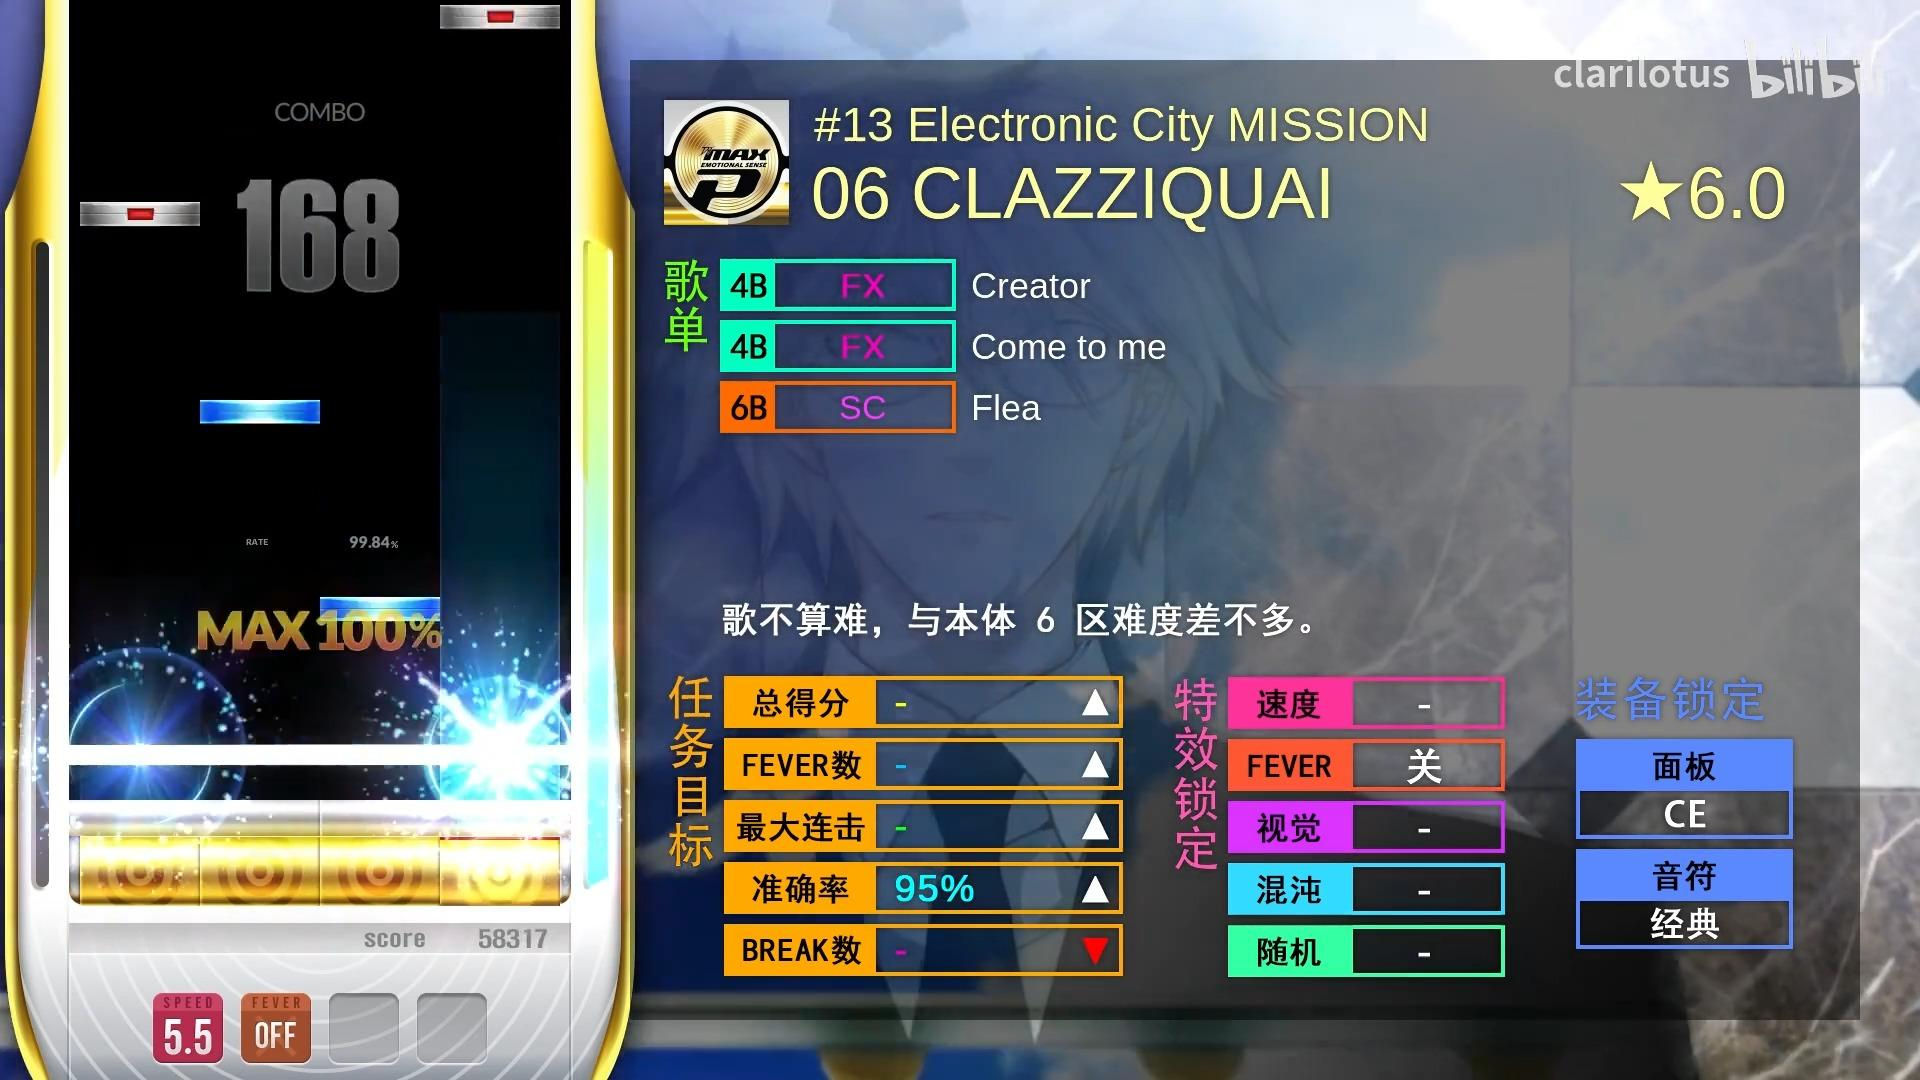note: (319, 596, 442, 622), (79, 200, 200, 227), (439, 4, 560, 30), (199, 398, 319, 425)
